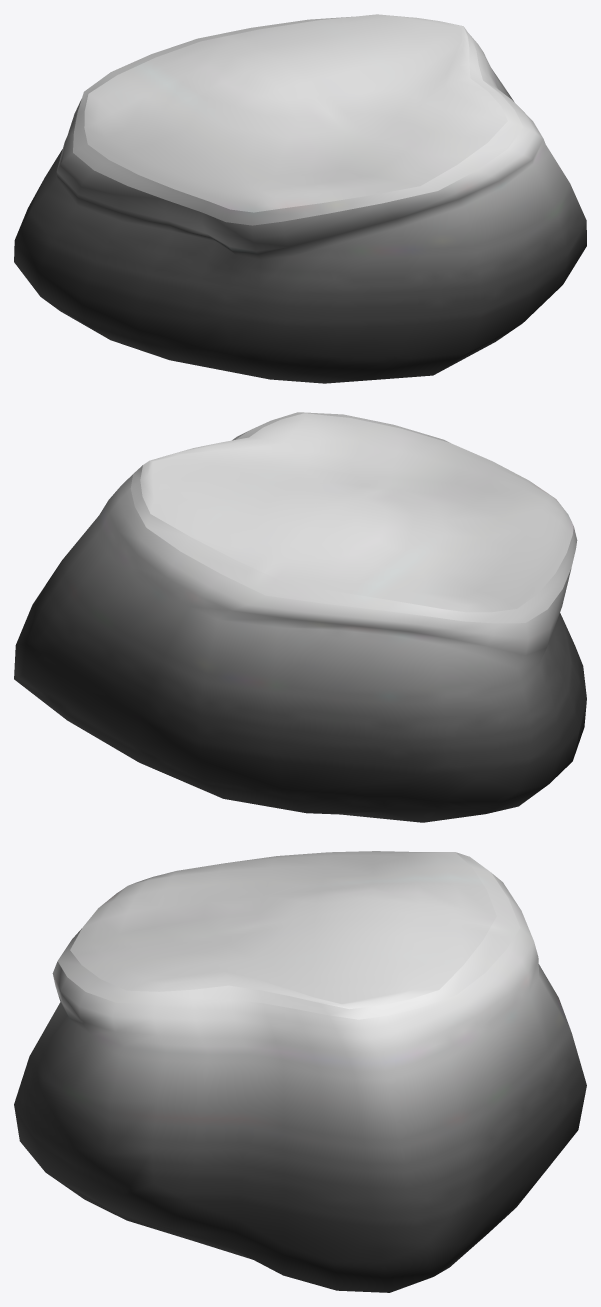
File: M_Rock_Plateau_09.fbx
3 views of the same model, one above another, from view 1: azimuth 30°, elevation 25°; view 2: azimuth 150°, elevation 25°; view 3: azimuth 270°, elevation 25° (orthographic). The views are drawn at different scales.
Parts seen in each view (by area): view 1: M_Rock_Plateau_09; view 2: M_Rock_Plateau_09; view 3: M_Rock_Plateau_09.
Part boxes in pixels (left/top/right/bottom): M_Rock_Plateau_09: left=14, top=14, right=586, bottom=383; M_Rock_Plateau_09: left=14, top=412, right=586, bottom=822; M_Rock_Plateau_09: left=14, top=851, right=586, bottom=1292.
Bounding box in the file's own units: 4331 × 1949 × 3807.
Materials: 1 (1 with a texture image).
